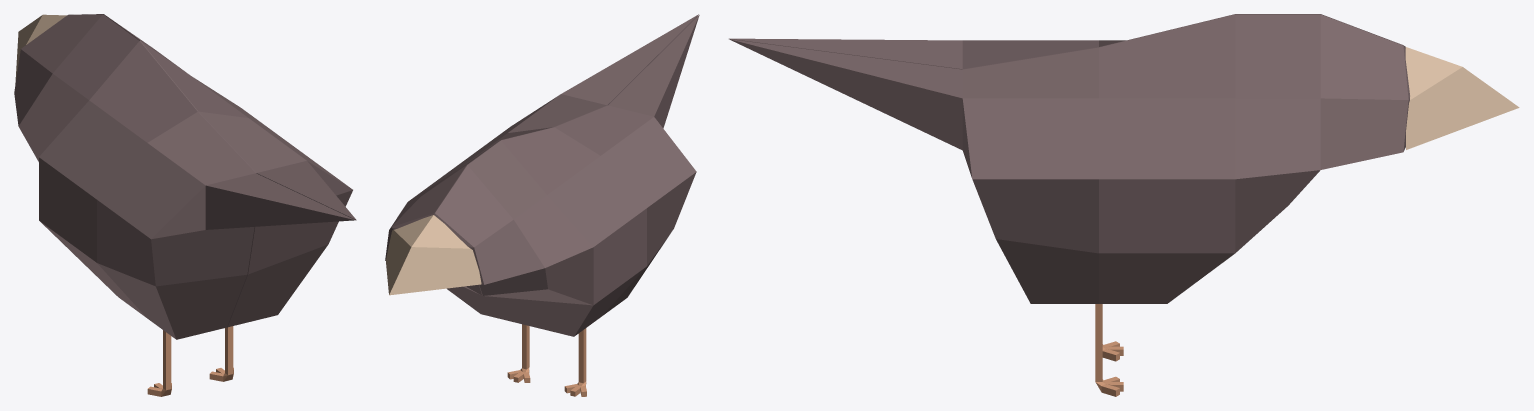
Rendered from Nattergal.fbx.
3 views of the same model, side by side, from view 1: azimuth 30°, elevation 25°; view 2: azimuth 150°, elevation 25°; view 3: azimuth 270°, elevation 25° (orthographic). The views are drawn at different scales.
Parts seen in each view (by area): view 1: Cube, Cube.001, Cube.002; view 2: Cube, Cube.002, Cube.001; view 3: Cube, Cube.002, Cube.001.
Part boxes in pixels (bbox=[...]): Cube: bbox=[14, 14, 356, 339]; Cube.001: bbox=[147, 326, 233, 396]; Cube.002: bbox=[15, 14, 66, 84]; Cube: bbox=[385, 14, 699, 336]; Cube.002: bbox=[386, 215, 481, 295]; Cube.001: bbox=[507, 324, 586, 396]; Cube: bbox=[729, 14, 1409, 303]; Cube.002: bbox=[1405, 47, 1519, 149]; Cube.001: bbox=[1095, 304, 1123, 396].
Bounding box in the file's own units: 201 × 290 × 581.
